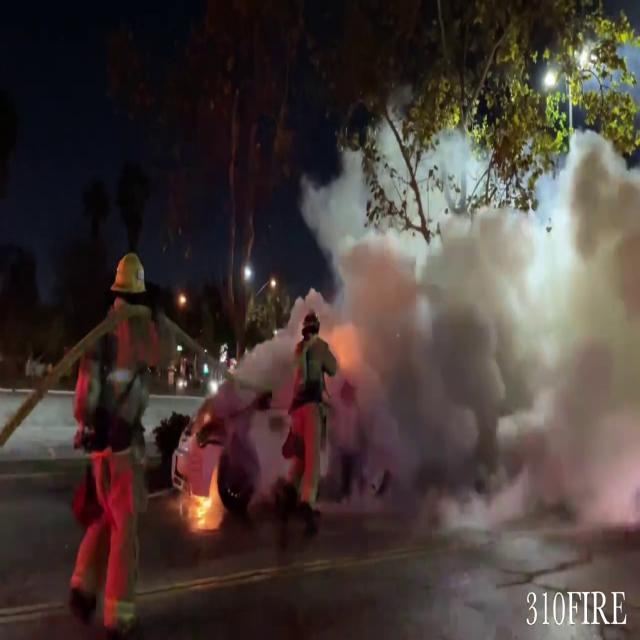Smoke: (317, 126, 640, 560)
